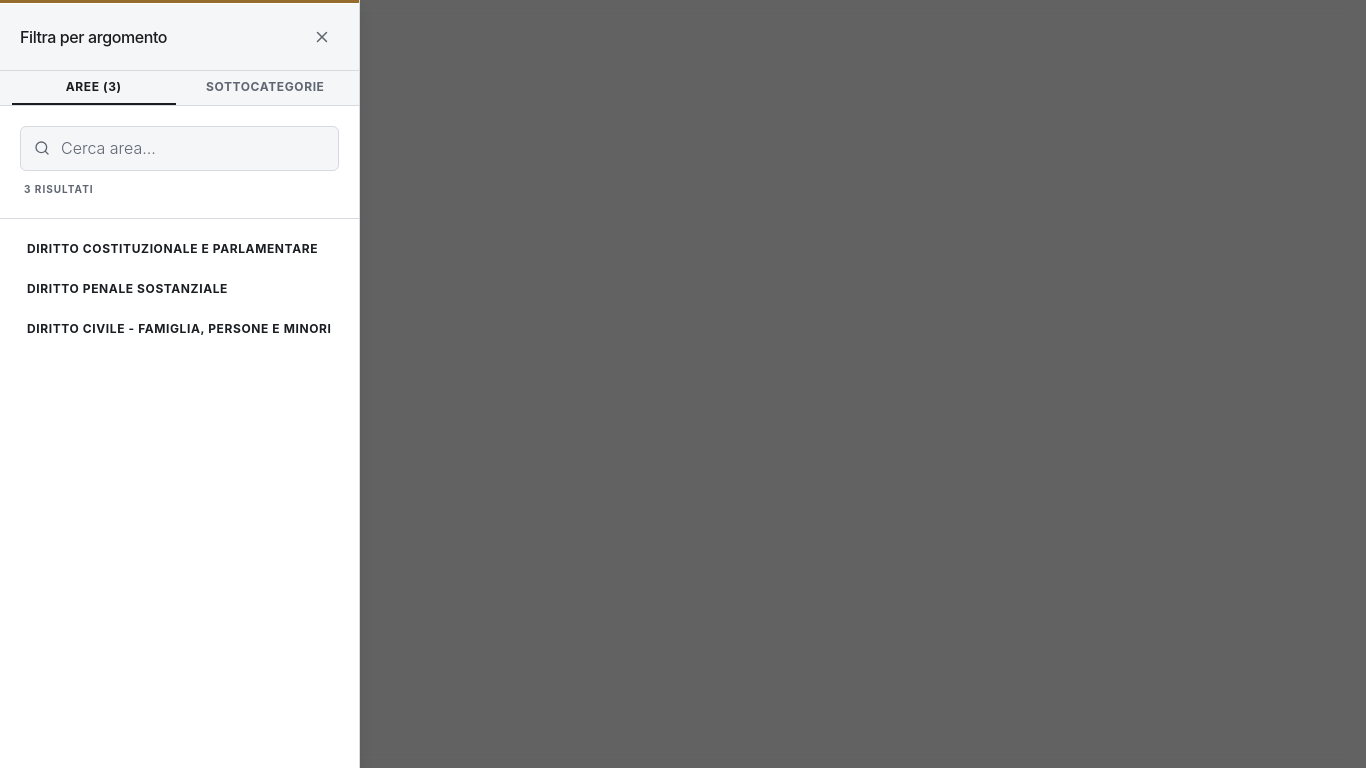
Scenario: LeftPickerPanel Component Suite › mostra il messaggio di errore nella tab Sottocategorie quando errorItems è presente
Click the button "Sottocategorie": (265, 92) [184, 79, 347, 105]
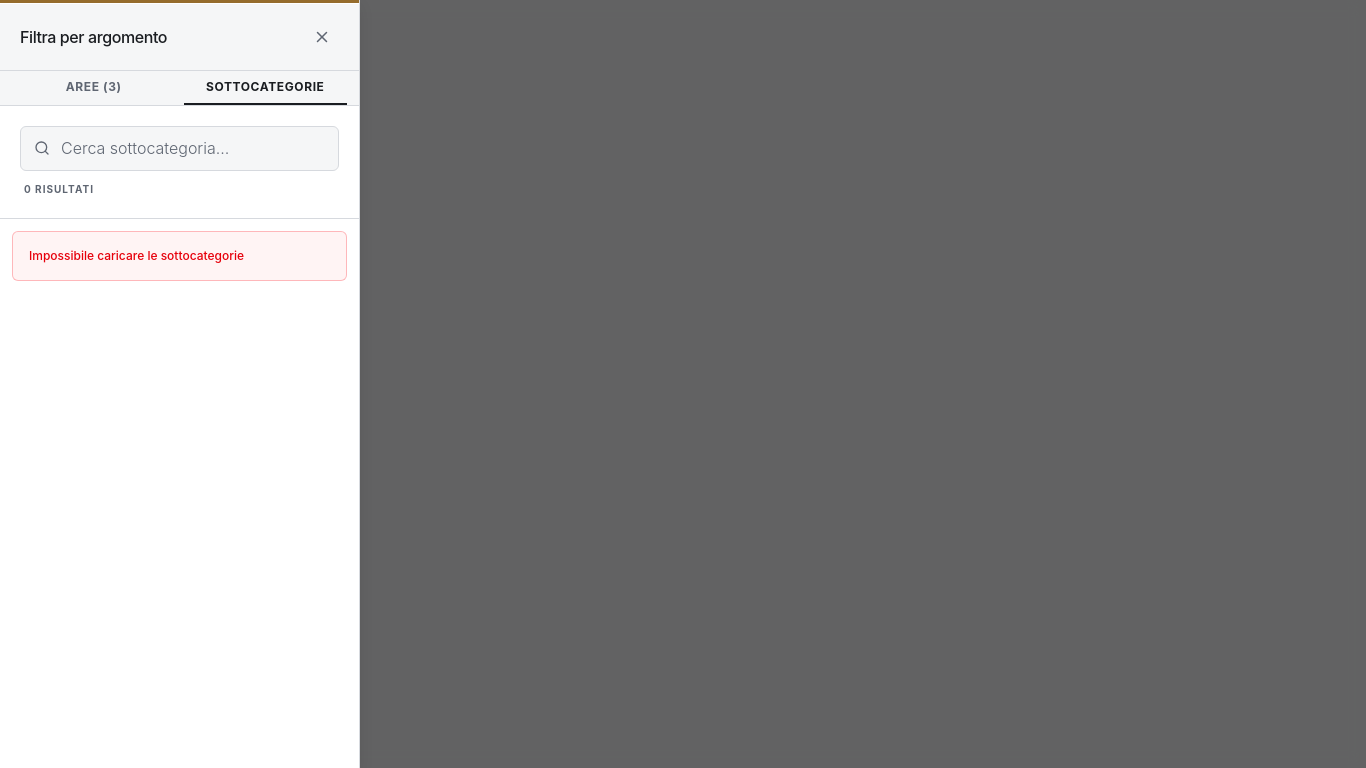
Check: the text "Impossibile caricare le sottocategorie" is shown, box [12, 231, 347, 281]
